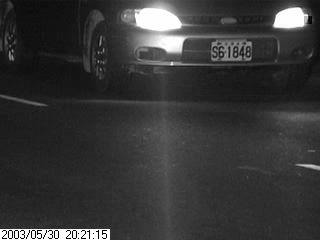plate: (209, 39, 254, 63)
